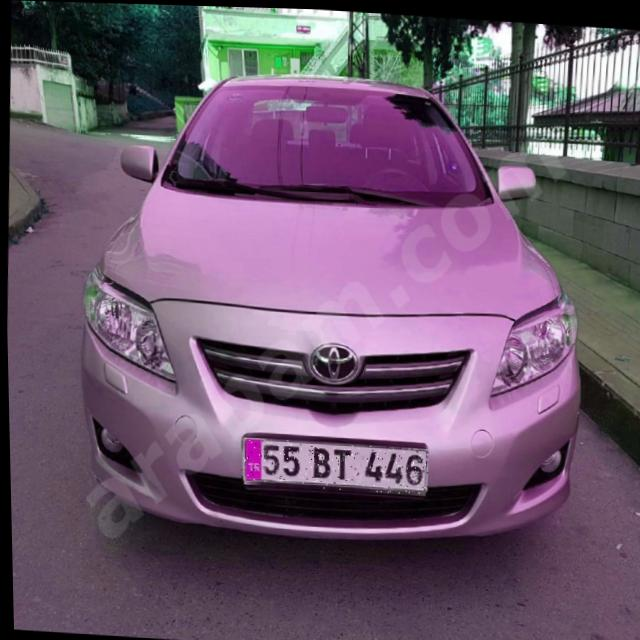license_plate: (238, 436, 426, 492)
